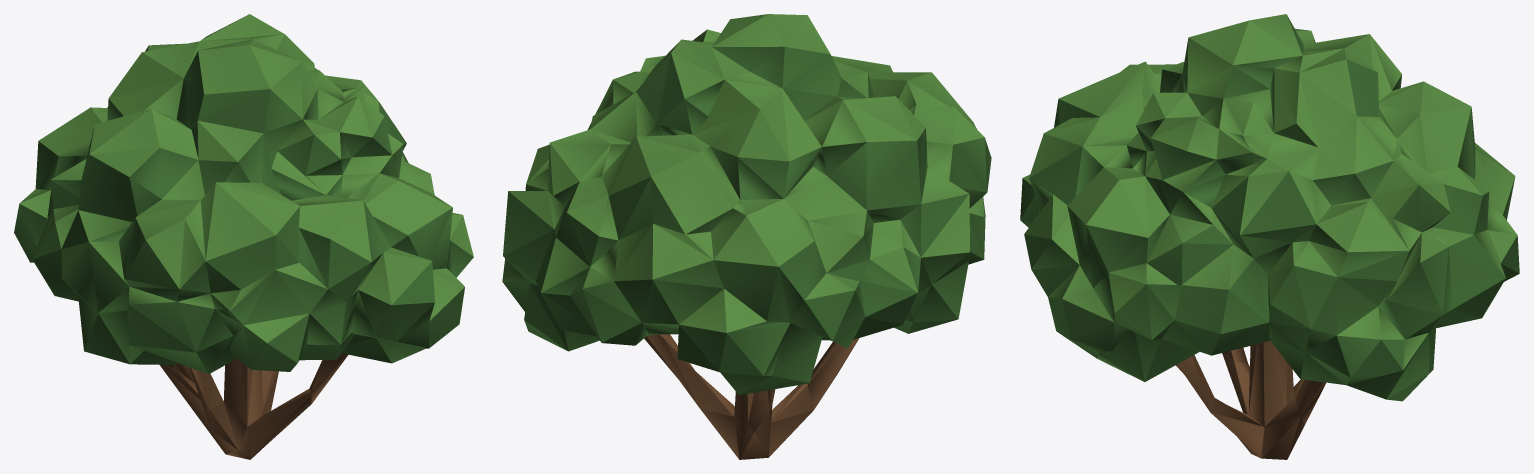
The model's file is mdvl_nature_bush_01.glb.
3 renders of one model, left to right at view 1: azimuth 30°, elevation 25°; view 2: azimuth 150°, elevation 25°; view 3: azimuth 270°, elevation 25°, orthographic. The views are drawn at different scales.
Parts seen in each view (by area): view 1: mdvl_nature_bush_01; view 2: mdvl_nature_bush_01; view 3: mdvl_nature_bush_01.
Part boxes in pixels (x1,y1,x2,y2): mdvl_nature_bush_01: (14, 14, 473, 459); mdvl_nature_bush_01: (502, 14, 991, 459); mdvl_nature_bush_01: (1020, 14, 1519, 459).
Size of the model in its own units: 1.05 by 1.08 by 1.13.
Materials: 1 (1 with a texture image).
